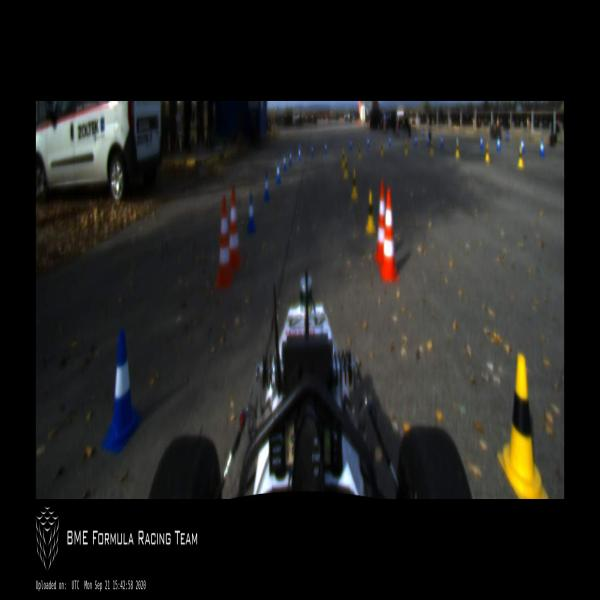blue_cone: (104, 330, 141, 451), (247, 195, 256, 235), (262, 172, 270, 200), (540, 138, 545, 158), (276, 162, 280, 183), (282, 152, 286, 172), (289, 148, 293, 166), (298, 145, 301, 162), (497, 136, 500, 150), (311, 145, 314, 156), (480, 135, 482, 148), (325, 141, 327, 152), (415, 135, 417, 146), (350, 139, 352, 149), (389, 136, 391, 146), (367, 137, 369, 146), (441, 137, 443, 146)
large_orange_cone: (380, 188, 399, 281), (214, 198, 232, 288), (373, 182, 386, 265), (228, 189, 240, 273)
yellow_cone: (497, 352, 548, 498), (365, 192, 376, 235), (351, 169, 358, 199), (518, 144, 524, 167), (485, 141, 490, 162), (344, 160, 348, 180), (380, 142, 384, 158), (456, 140, 459, 160), (342, 148, 345, 168), (358, 143, 361, 160), (404, 138, 407, 153), (430, 140, 433, 154)
